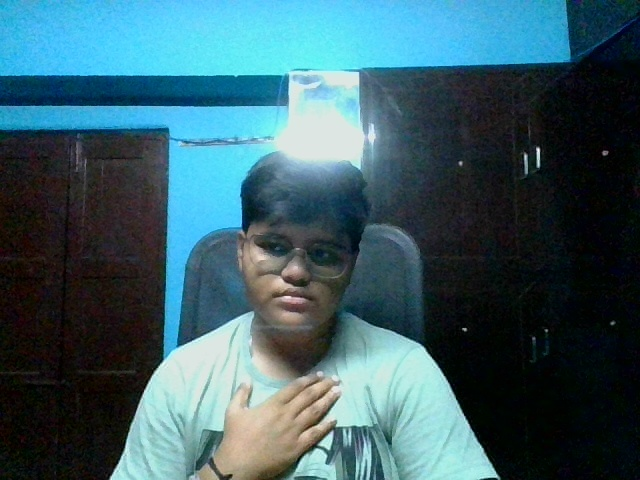PLEASE: (171, 349, 425, 480)
